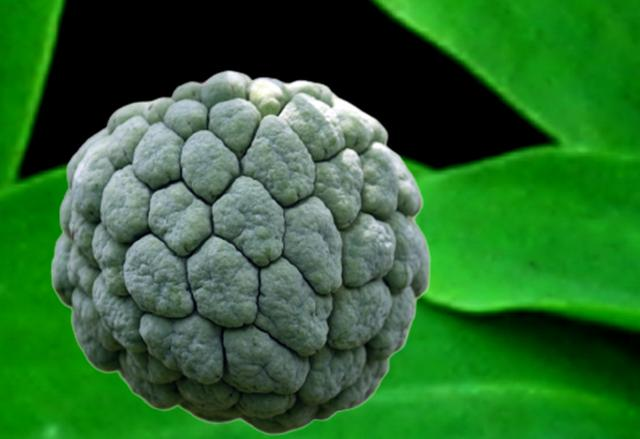atis: (50, 69, 430, 435)
